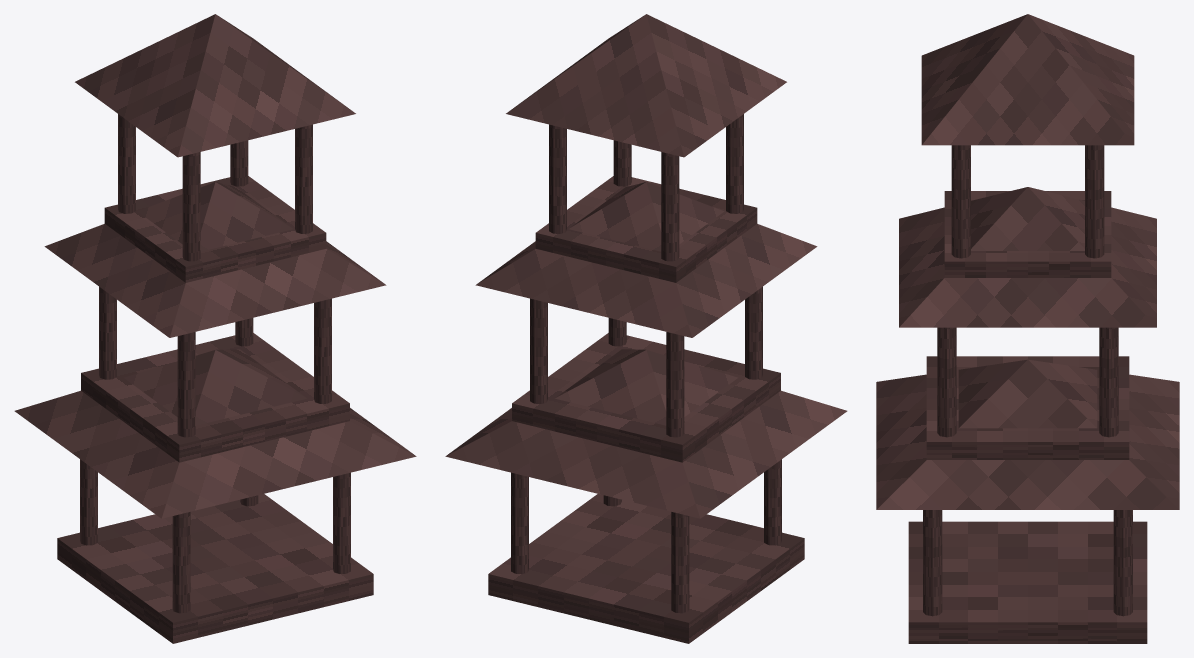
Rendered from pagoda_26.glb.
The picture shows the model from 3 angles, left to right: view 1: azimuth 30°, elevation 25°; view 2: azimuth 150°, elevation 25°; view 3: azimuth 270°, elevation 25°; orthographic projection. The views are drawn at different scales.
Parts seen in each view (by area): view 1: Roof, Floor, Roof.001, Roof.002, Floor.001, Floor.002, Column.008, Column.004, Column.010, Column, Column.006, Column.002 (+4 smaller); view 2: Roof, Floor, Roof.001, Roof.002, Floor.001, Floor.002, Column.009, Column.005, Column.011, Column.001, Column.007, Column.003 (+4 smaller); view 3: Roof, Floor, Roof.001, Roof.002, Floor.001, Floor.002, Column.010, Column.011, Column.006, Column.007, Column.002, Column.003.
Part boxes in pixels (x1,y1,x2,y2): Roof: (14,349,416,518); Floor: (57,494,373,643); Roof.001: (44,182,386,337); Roof.002: (75,14,355,157); Floor.001: (81,333,349,462); Floor.002: (104,176,326,282); Column.008: (182,152,200,261); Column.004: (177,332,195,437); Column.010: (295,124,312,233); Column: (172,512,190,613); Column.006: (314,298,331,403); Column.002: (333,472,350,573); Roof: (445,349,847,518); Floor: (488,494,804,643); Roof.001: (475,182,817,337); Roof.002: (506,14,786,157); Floor.001: (512,333,780,462); Floor.002: (535,176,757,282); Column.009: (661,152,679,261); Column.005: (666,332,684,437); Column.011: (549,124,566,233); Column.001: (671,512,689,613); Column.007: (530,298,547,403); Column.003: (511,472,528,573); Roof: (876,359,1179,509); Floor: (908,521,1147,643); Roof.001: (899,187,1156,327); Roof.002: (921,14,1134,145); Floor.001: (926,356,1129,459); Floor.002: (944,191,1111,277); Column.010: (951,145,970,258); Column.011: (1085,145,1104,258); Column.006: (937,327,956,437); Column.007: (1099,327,1118,437); Column.002: (923,510,942,616); Column.003: (1113,510,1132,616).
Bounding box in the file's own units: 3.8 × 8.01 × 3.8.
1 material, 1 textured.
